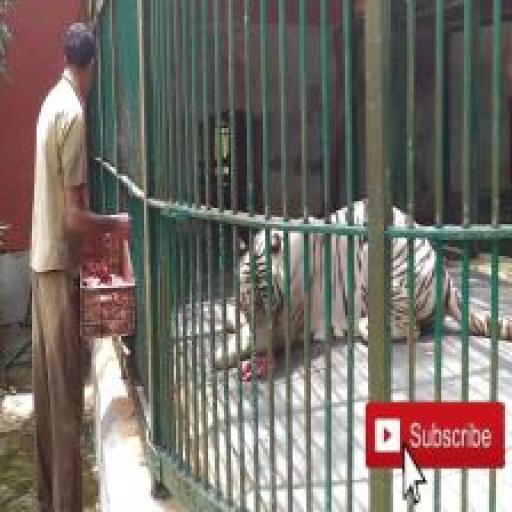Tiger: (212, 199, 511, 377)
